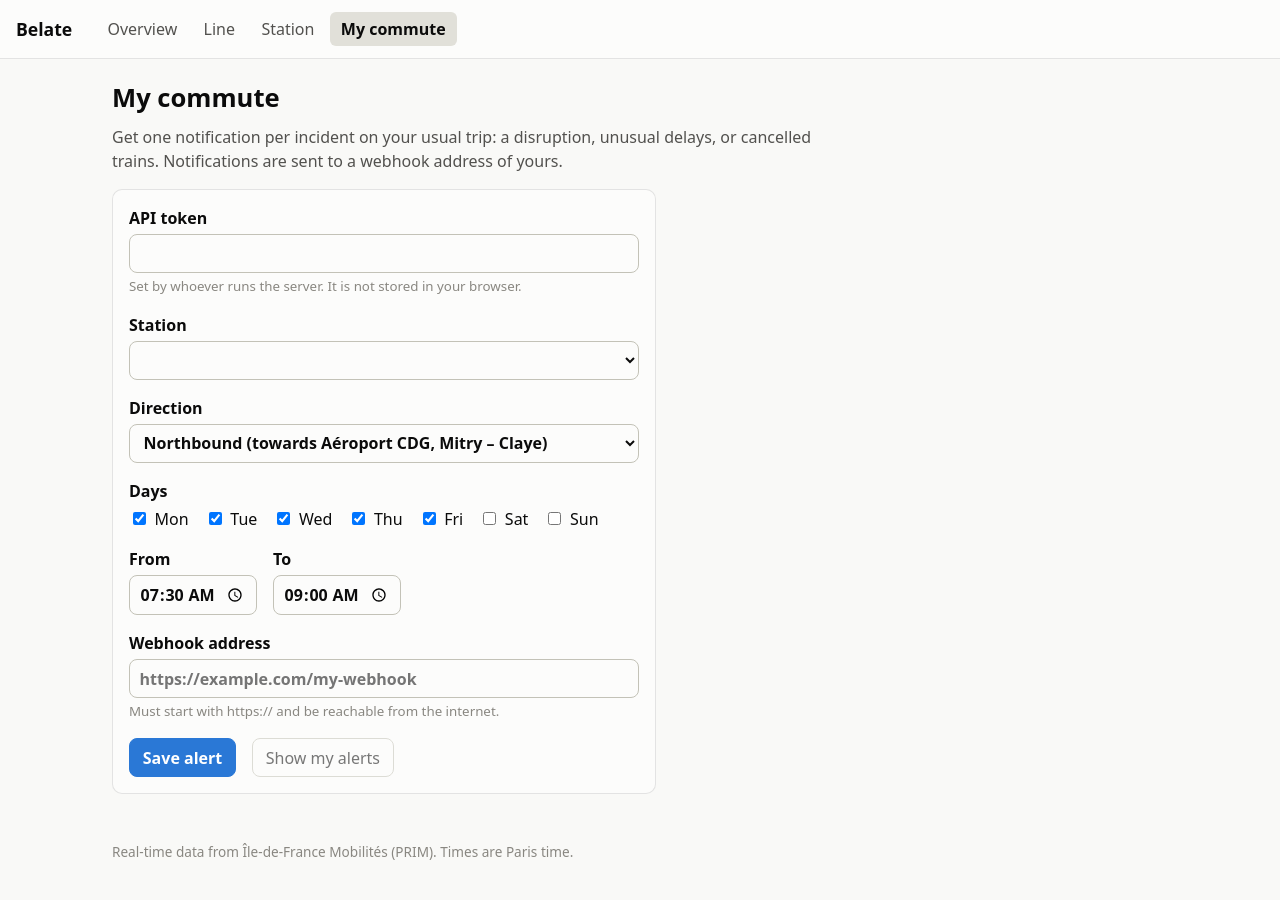
Scenario: App › the commute form sends what was entered
Type "secret" into the password field labelled "API token" at (384, 254), box [129,234,639,273]
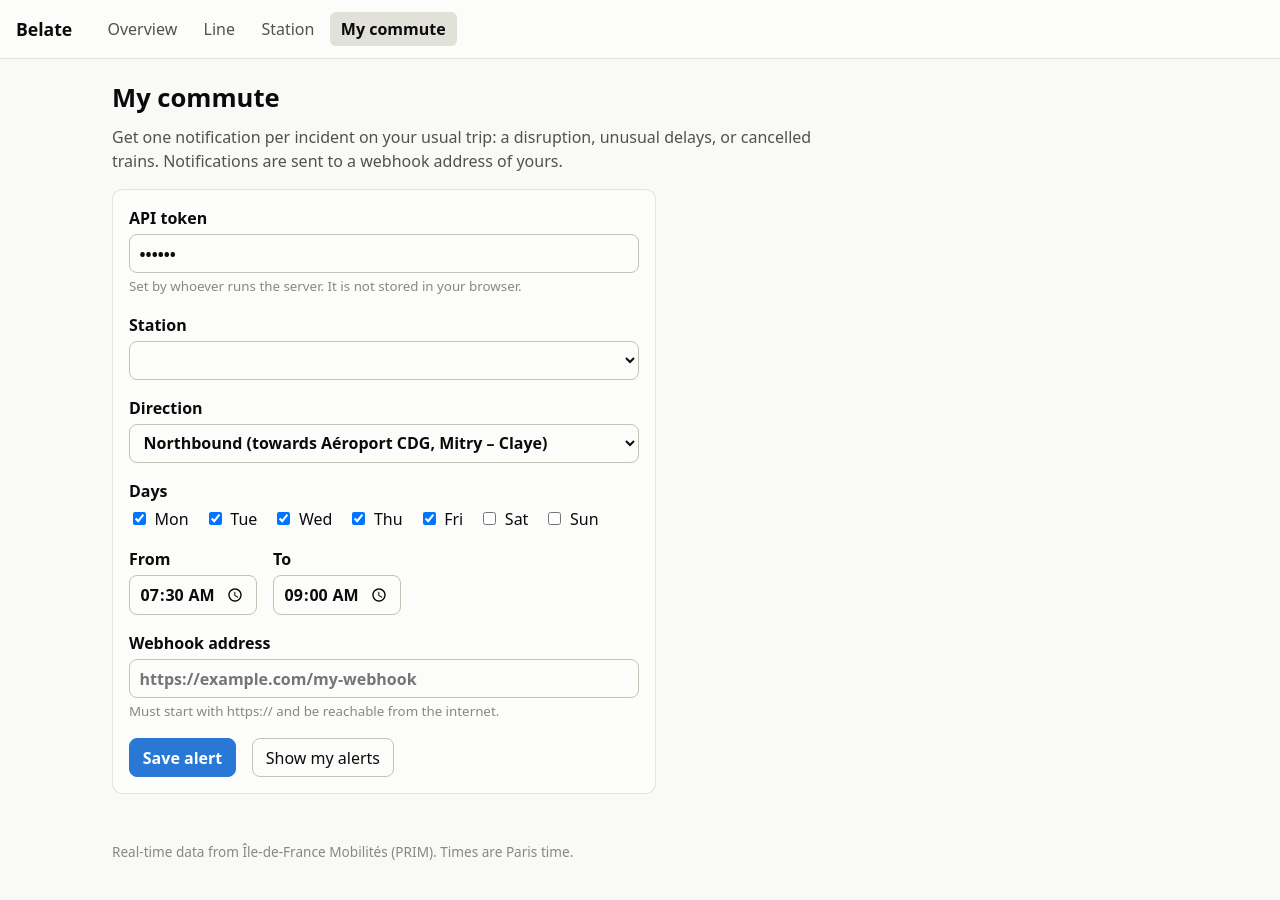
Type "https://example.com/hook" into the field labelled "Webhook address" at (384, 679), box [129,659,639,698]
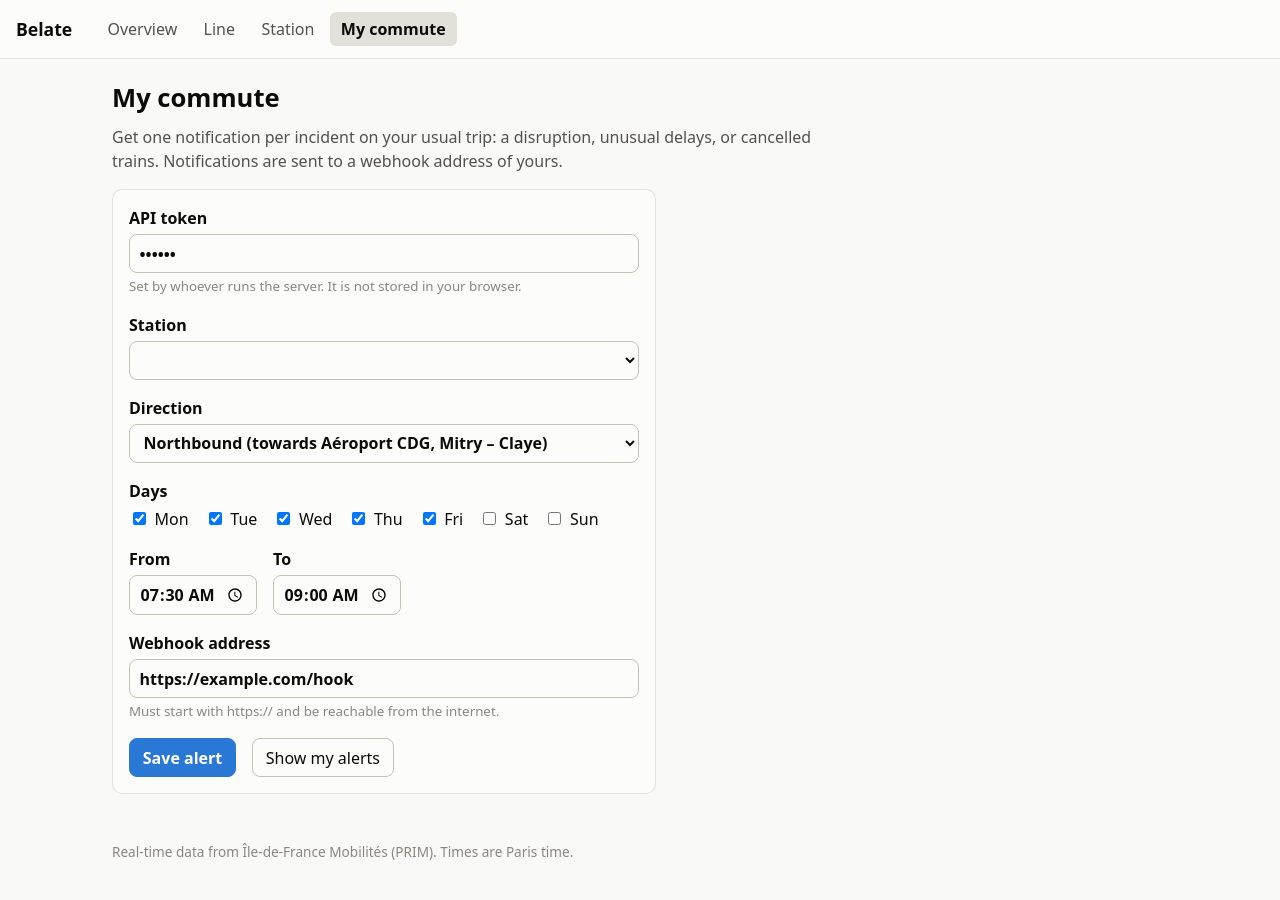
Click the checkbox labelled "Fri" at (429, 519), box [423,512,436,525]
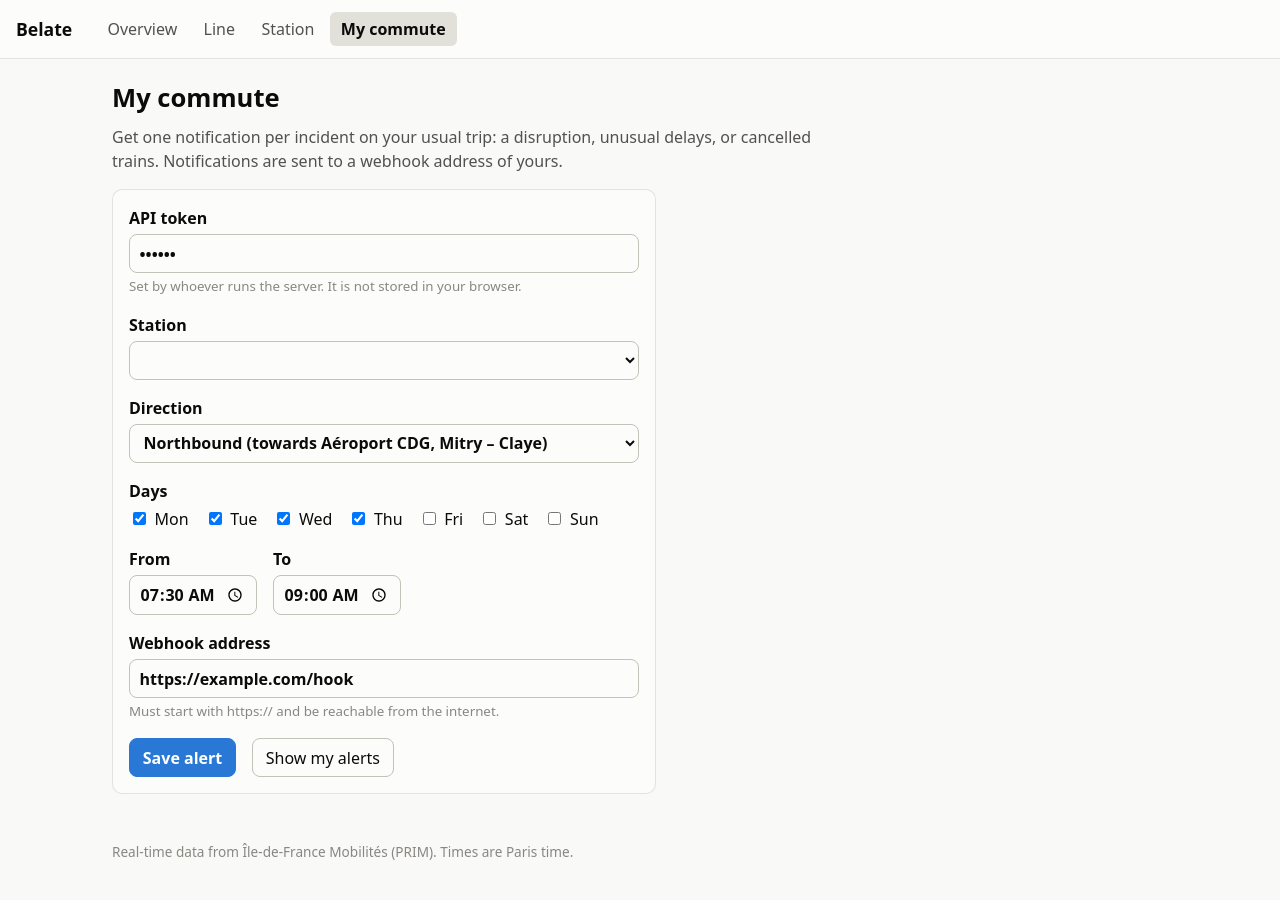
Click the button "Save alert" at (182, 758), box [129,738,236,777]
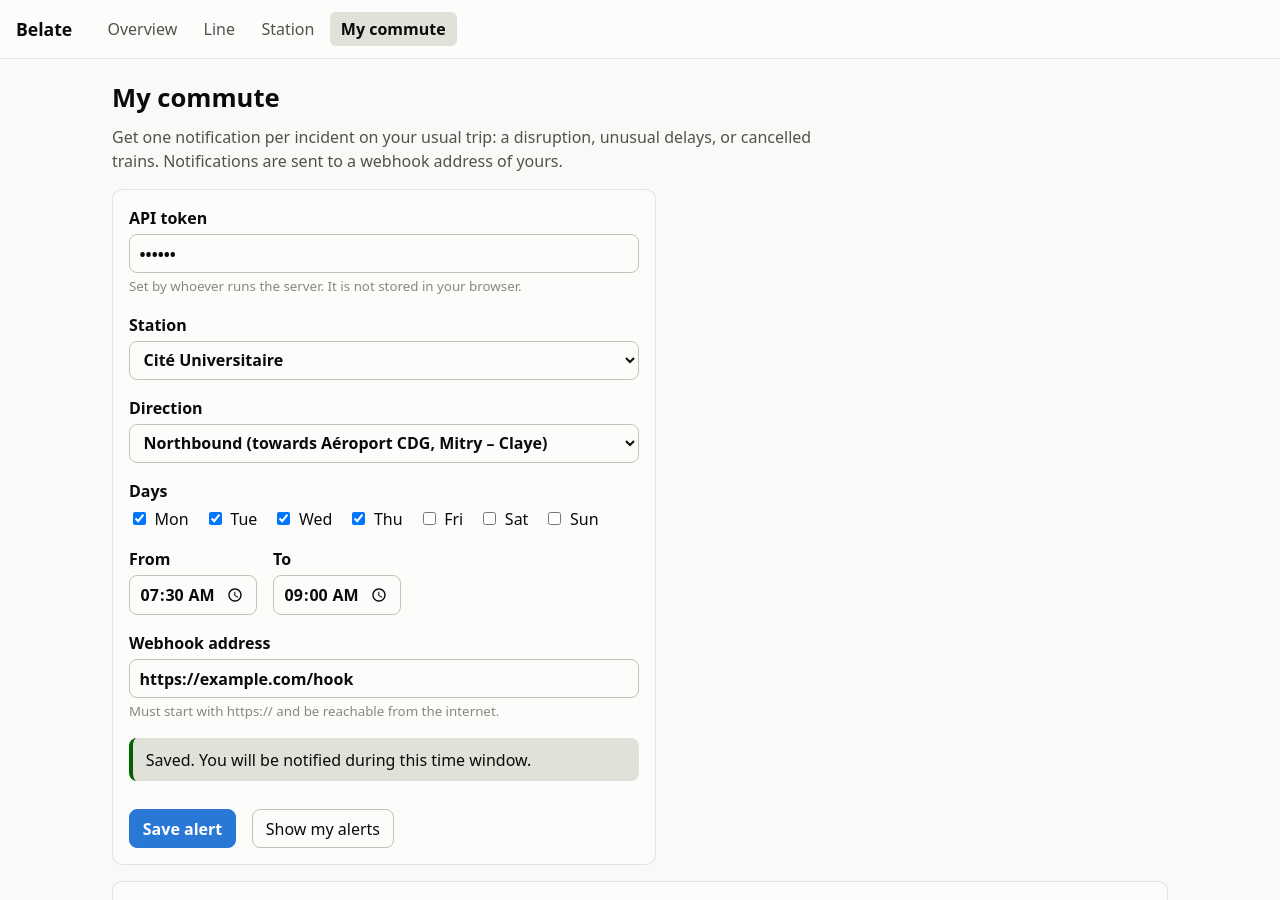
Now the message shows "Saved", box [146,749,531,771]
